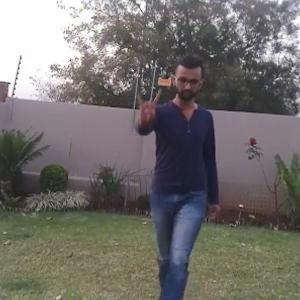takeoff-hand: (126, 83, 163, 128)
